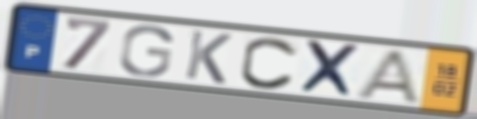7: (61, 14, 115, 73)
A: (352, 49, 425, 106)
C: (237, 34, 301, 92)
G: (116, 23, 176, 79)
K: (182, 28, 235, 87)
X: (297, 38, 363, 101)
